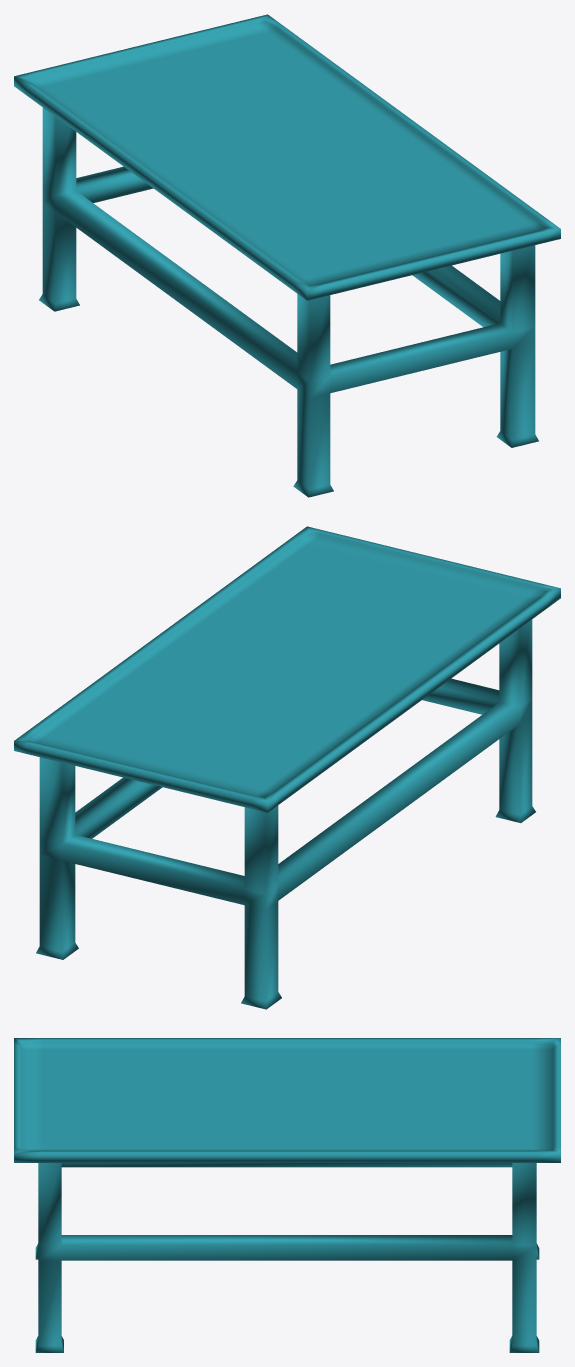
File: OperatingTable.fbx
The picture shows the model from 3 angles, top to bottom: view 1: azimuth 30°, elevation 25°; view 2: azimuth 150°, elevation 25°; view 3: azimuth 270°, elevation 25°; orthographic projection. The views are drawn at different scales.
Visible parts, largest first — view 1: OperatingTable:Box001; view 2: OperatingTable:Box001; view 3: OperatingTable:Box001.
Boxes of the visible parts, box(x1,y1,x2,y2) form: OperatingTable:Box001: box(14, 14, 560, 497); OperatingTable:Box001: box(14, 526, 560, 1009); OperatingTable:Box001: box(14, 1038, 560, 1352).
Size of the model in its own units: 10 by 8.22 by 20.
